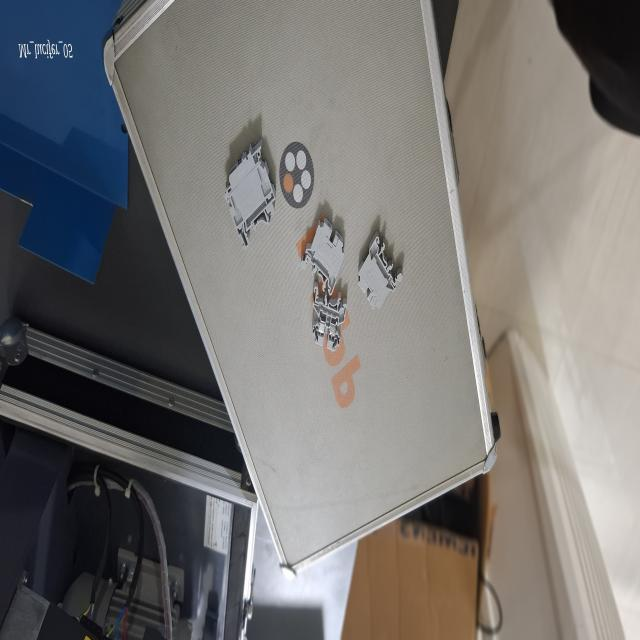Inverted: (225, 137, 277, 250), (358, 229, 404, 310), (300, 218, 345, 296)
Pass: (312, 283, 348, 353)
